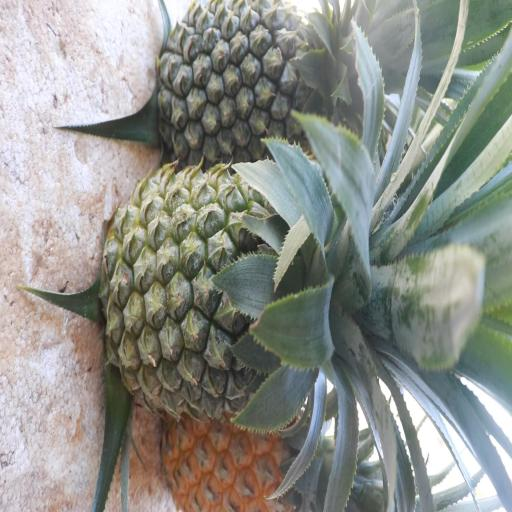------------------------------: (104, 174, 341, 402)
Pineapple - v8 v1: (161, 400, 335, 512)
